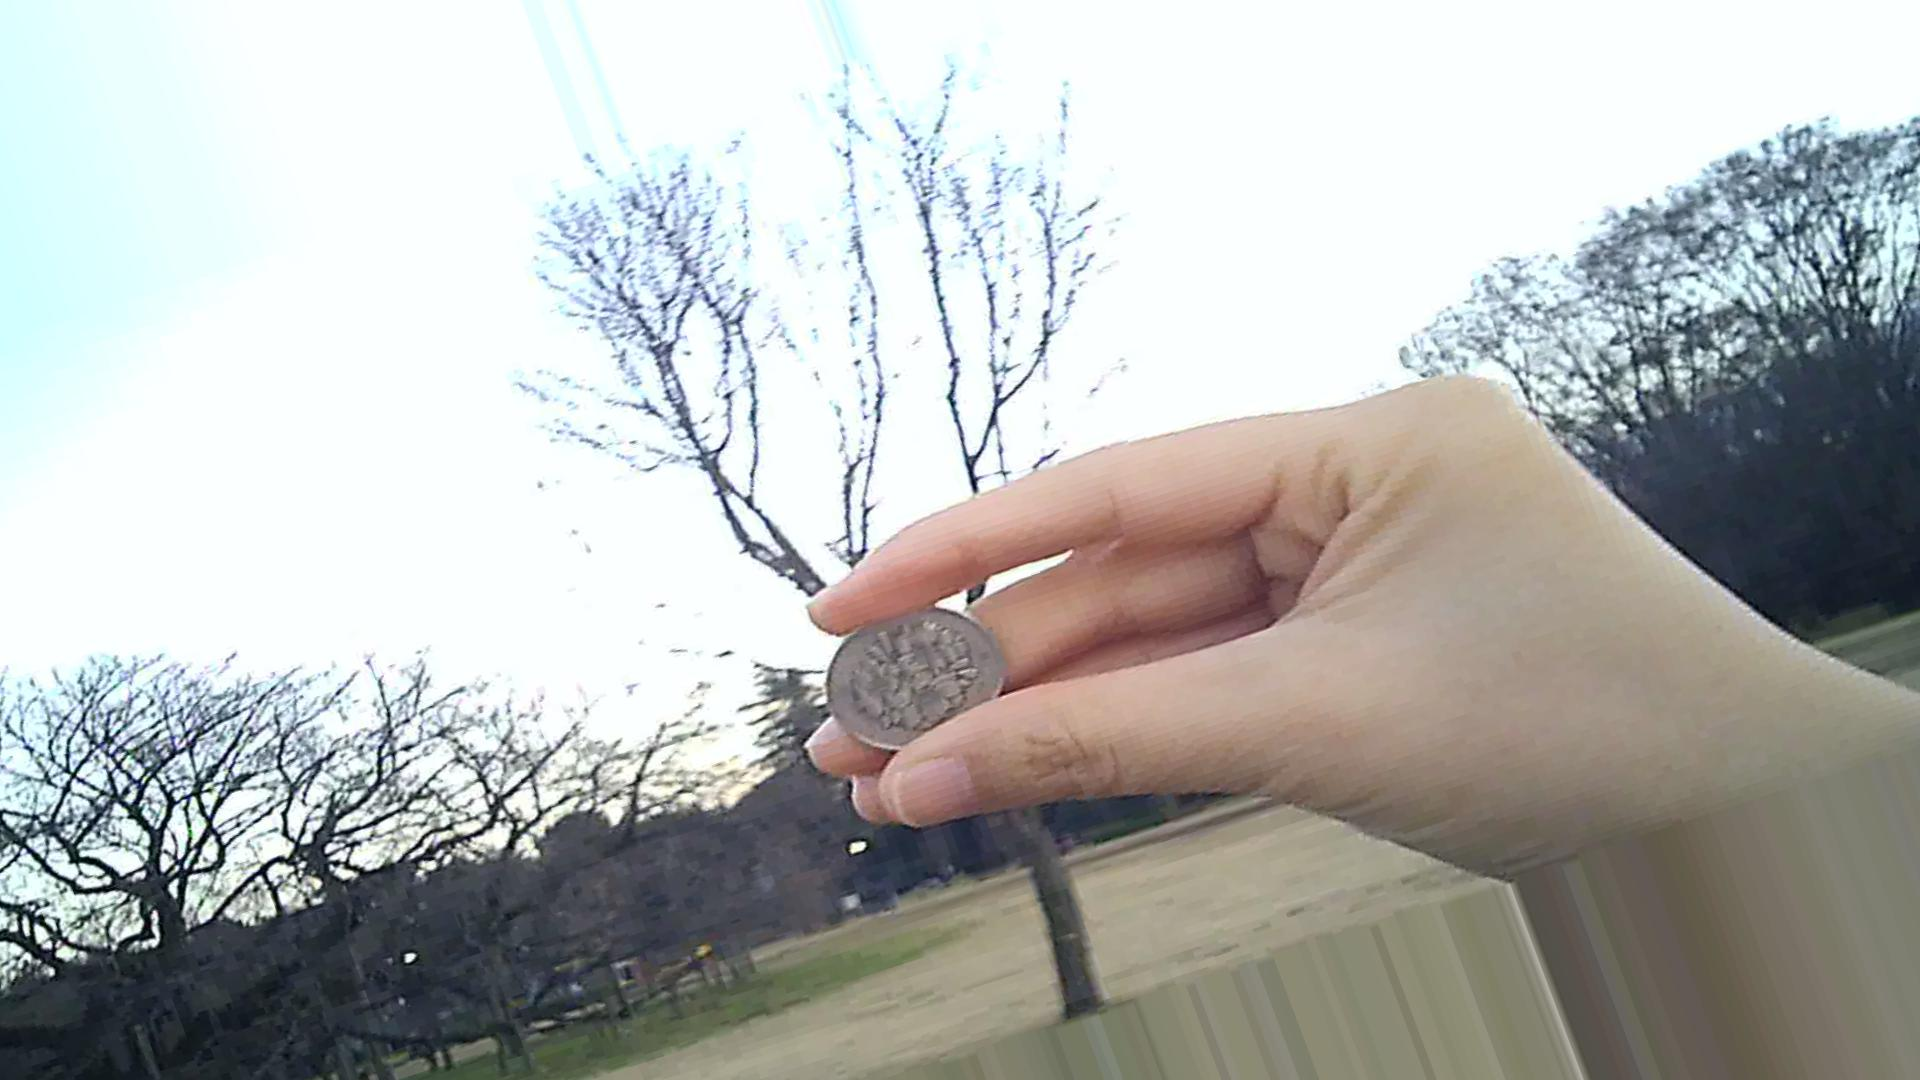100 Yen: (807, 595, 1002, 757)
